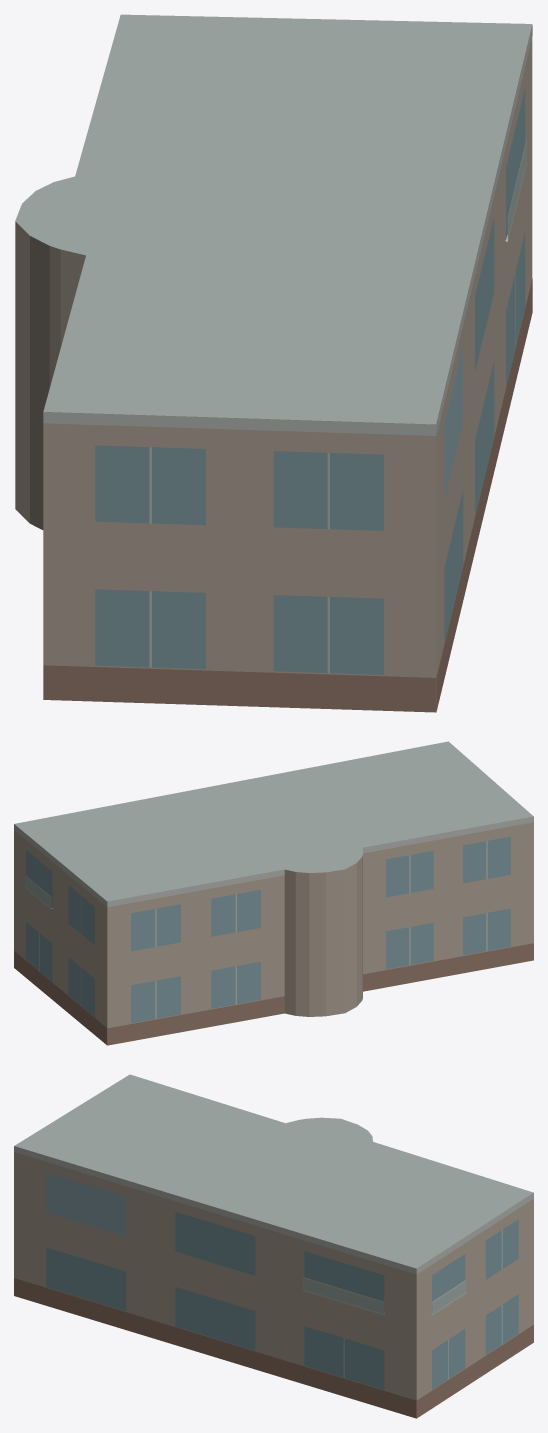
Rendered from survey-upis-32848456.glb.
The picture shows the model from 3 angles, top to bottom: view 1: azimuth 30°, elevation 25°; view 2: azimuth 150°, elevation 25°; view 3: azimuth 270°, elevation 25°; orthographic projection. The views are drawn at different scales.
Visible parts, largest first — view 1: survey-upis-32848456.tmp; view 2: survey-upis-32848456.tmp; view 3: survey-upis-32848456.tmp.
Part boxes in pixels (x1=…): survey-upis-32848456.tmp: x1=15, y1=14, x2=532, y2=712; survey-upis-32848456.tmp: x1=14, y1=741, x2=533, y2=1045; survey-upis-32848456.tmp: x1=14, y1=1074, x2=533, y2=1418.
Bounding box in the file's own units: 16.96 × 6.1 × 19.17.
